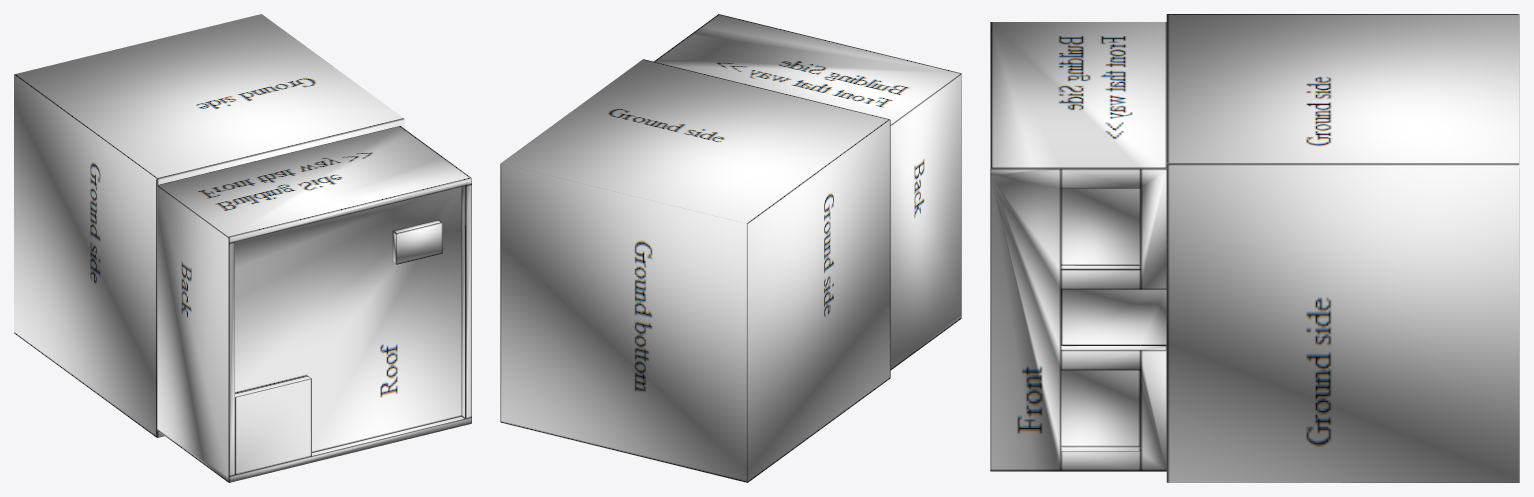
File: BuildingBig.fbx
The picture shows the model from 3 angles, left to right: view 1: azimuth 30°, elevation 25°; view 2: azimuth 150°, elevation 25°; view 3: azimuth 270°, elevation 25°; orthographic projection. The views are drawn at different scales.
Parts seen in each view (by area): view 1: cube1; view 2: cube1; view 3: cube1.
Part boxes in pixels (x1=…): cube1: x1=14, y1=14, x2=471, y2=482; cube1: x1=500, y1=14, x2=961, y2=482; cube1: x1=990, y1=14, x2=1519, y2=482.
Bounding box in the file's own units: 48 × 48 × 72.
Materials: 1 (1 with a texture image).
